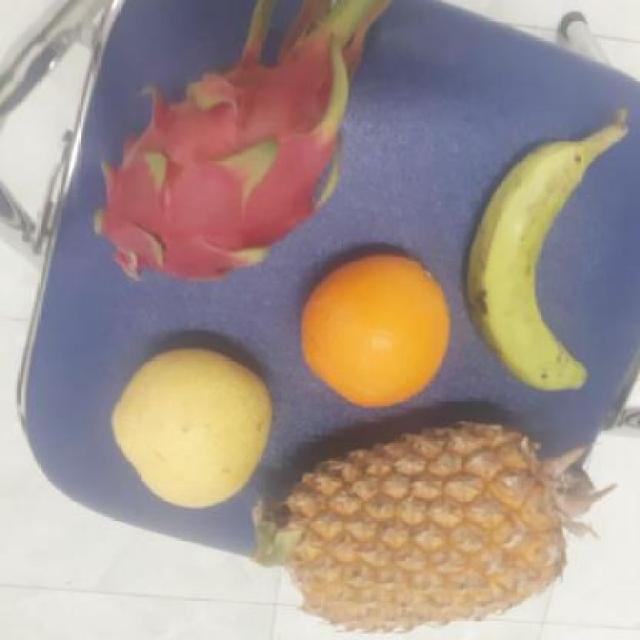banana: (460, 128, 605, 388)
dragon fruit: (88, 70, 348, 279)
guava: (106, 347, 272, 502), (293, 256, 455, 406)
pineapple: (266, 419, 571, 633)
